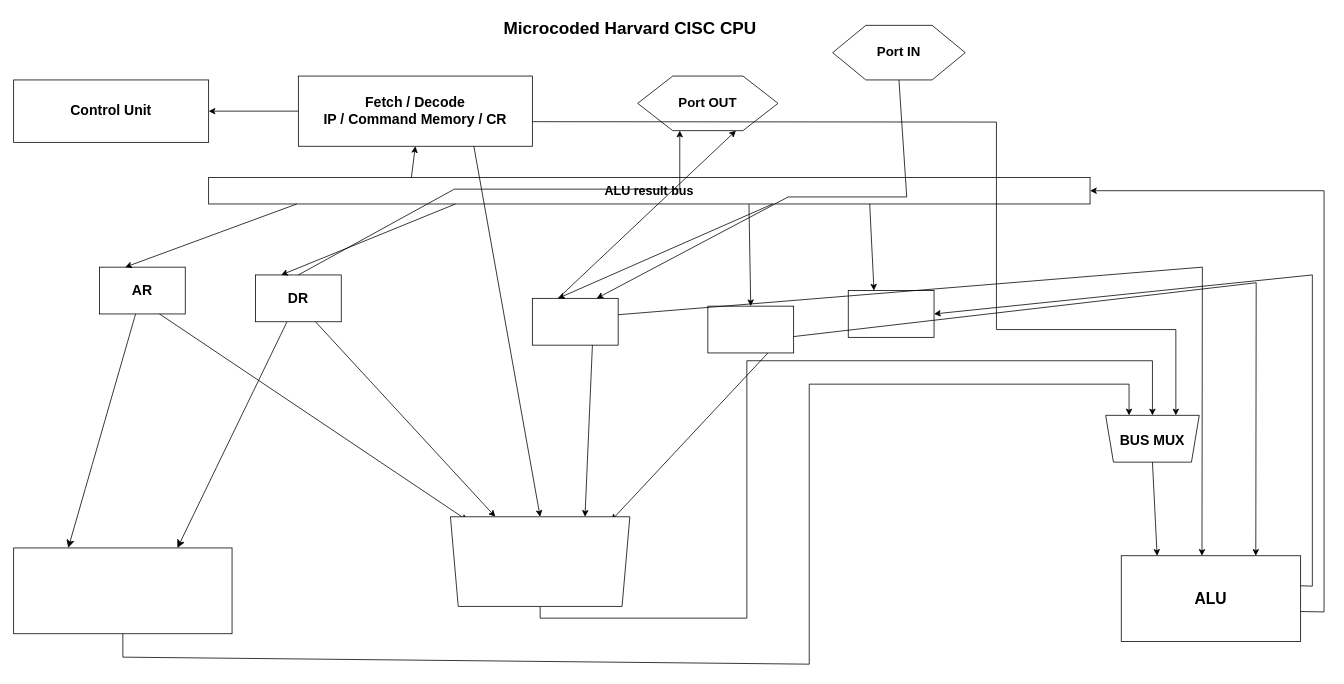
Some shapes in this 1344 by 684 pixel diagram are drawn without their labels. Each missing label, with the centre of its shape:
"AC" goes at point (575, 321).
"BR" goes at point (750, 329).
"Data Memory" goes at point (122, 590).
"PS" goes at point (890, 313).
"SRC MUX" goes at point (540, 561).
